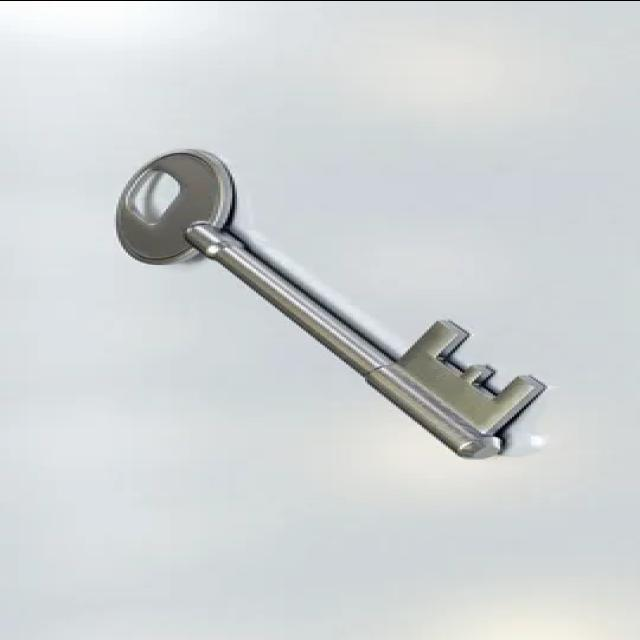key: (100, 141, 547, 471)
